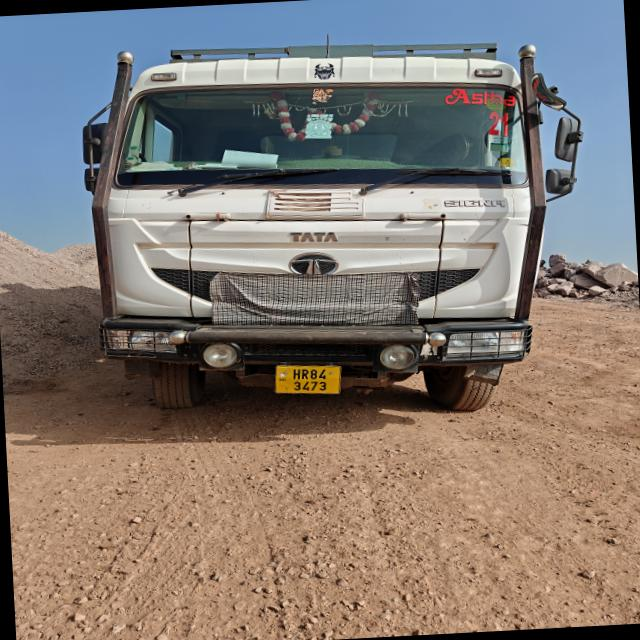license_plate: (275, 366, 341, 394)
